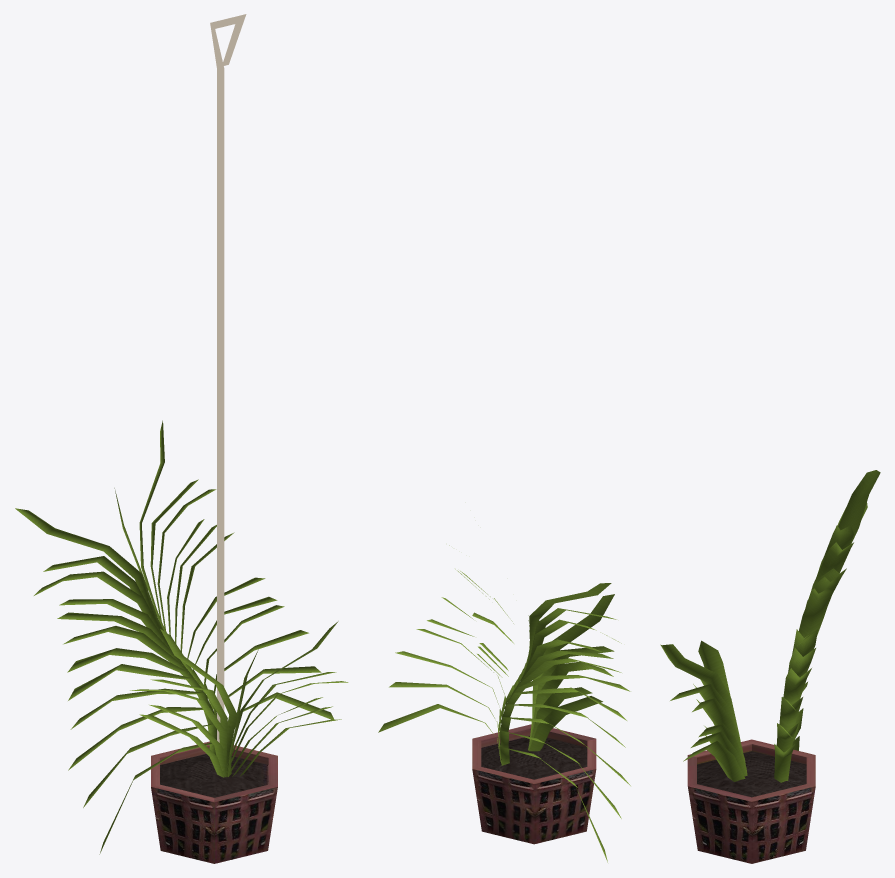
The model's file is cay-cao-do.glb.
3 renders of one model, left to right at view 1: azimuth 30°, elevation 25°; view 2: azimuth 150°, elevation 25°; view 3: azimuth 270°, elevation 25°, orthographic. The views are drawn at different scales.
Parts seen in each view (by area): view 1: Cao_Do; view 2: Cao_Do; view 3: Cao_Do.
Part boxes in pixels (left/top/right/bottom): Cao_Do: left=15, top=14, right=348, bottom=863; Cao_Do: left=378, top=545, right=630, bottom=862; Cao_Do: left=660, top=470, right=880, bottom=863.
Size of the model in its own units: 0.2602 by 0.7319 by 0.1762.
Materials: 1 (1 with a texture image).
